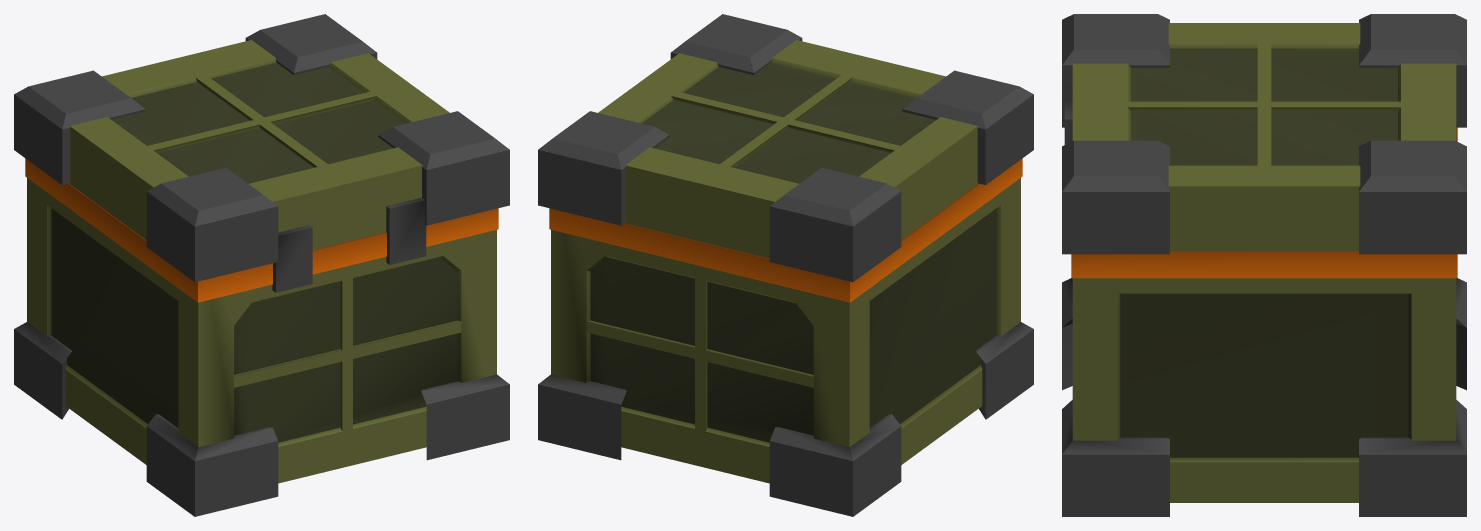
The model's file is crate-tall.glb.
3 views of the same model, side by side, from view 1: azimuth 30°, elevation 25°; view 2: azimuth 150°, elevation 25°; view 3: azimuth 270°, elevation 25° (orthographic). The views are drawn at different scales.
Parts seen in each view (by area): view 1: crate-tall; view 2: crate-tall; view 3: crate-tall.
Part boxes in pixels (x1,y1,x2,y2): crate-tall: (14, 14, 509, 516); crate-tall: (538, 14, 1033, 516); crate-tall: (1062, 14, 1466, 516).
Size of the model in its own units: 1.55 by 1.41 by 1.54.
1 material, 1 textured.
